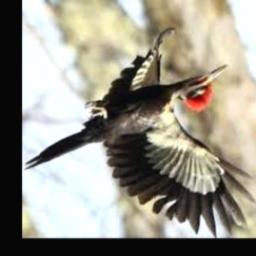Woodpecker: (24, 29, 256, 238)
